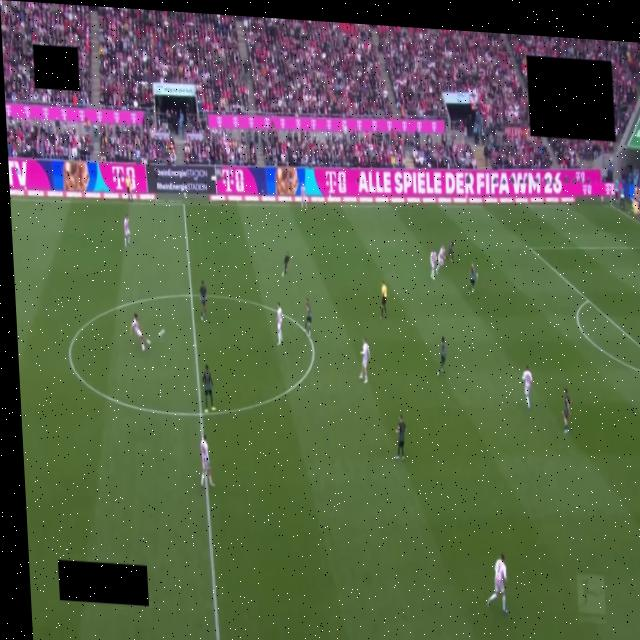ball: (158, 330, 165, 337)
player: (488, 554, 507, 614), (201, 364, 216, 414), (200, 434, 214, 487), (131, 313, 145, 351), (395, 414, 406, 460), (359, 338, 370, 383), (522, 366, 532, 409), (563, 388, 571, 433), (437, 337, 446, 375), (199, 282, 207, 319), (305, 299, 312, 337), (277, 303, 283, 345), (469, 263, 477, 294), (436, 246, 445, 273), (430, 250, 437, 279), (125, 176, 133, 200), (124, 216, 130, 247), (282, 251, 289, 277), (301, 184, 307, 209), (448, 240, 454, 261)
referee: (381, 281, 387, 318)
